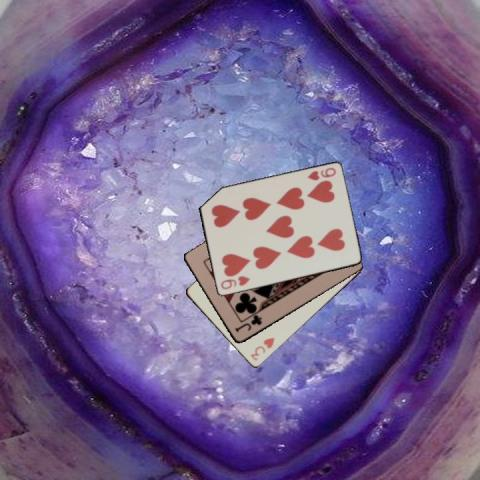3h: (247, 334, 276, 362)
9h: (217, 273, 251, 291), (304, 165, 337, 182)
Jc: (232, 313, 263, 334)
